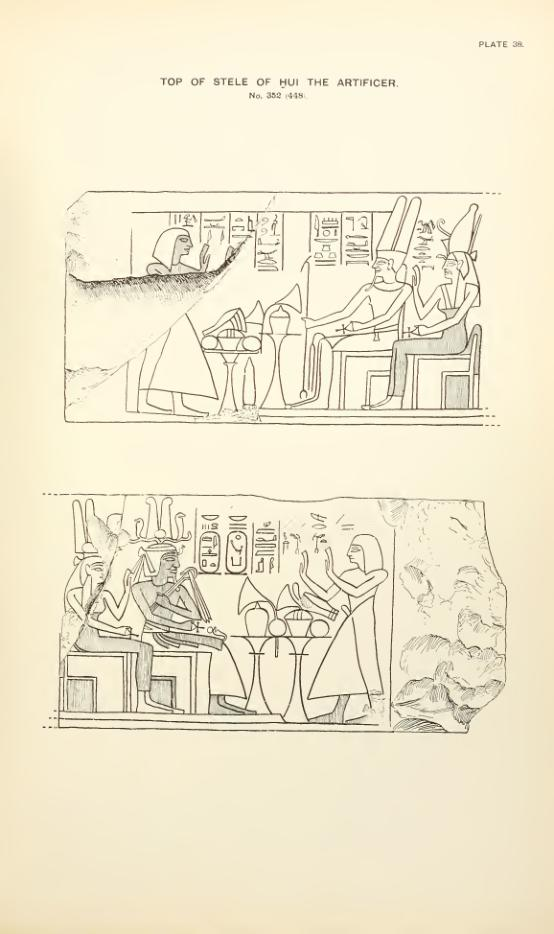circle: (197, 530, 222, 579), (224, 530, 249, 578)
